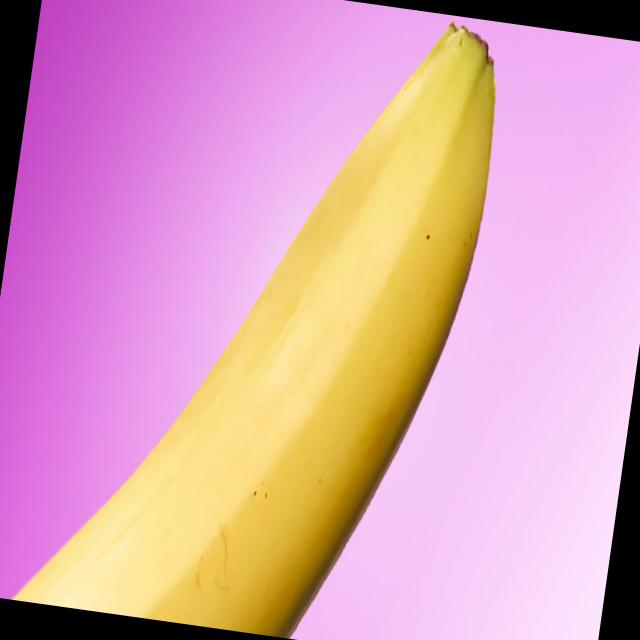banana: (6, 0, 527, 640)
